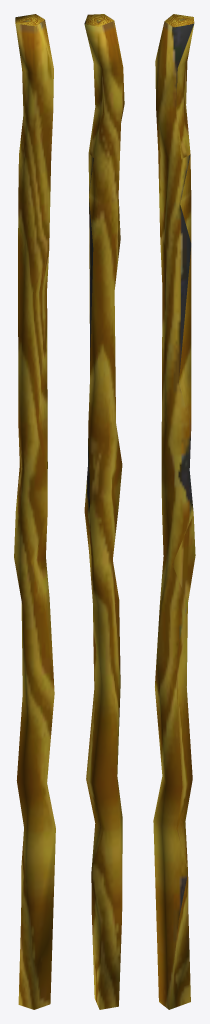
File: STAFF.fbx
The picture shows the model from 3 angles, left to right: view 1: azimuth 90°, elevation 25°; view 2: azimuth 150°, elevation 25°; view 3: azimuth 270°, elevation 25°; orthographic projection.
Parts seen in each view (by area): view 1: STAFF; view 2: STAFF; view 3: STAFF.
Boxes of the visible parts, x1=… form: STAFF: x1=14, y1=14, x2=55, y2=1009; STAFF: x1=84, y1=14, x2=124, y2=1009; STAFF: x1=153, y1=14, x2=195, y2=1009.
Size of the model in its own units: 501 by 13397 by 519.
